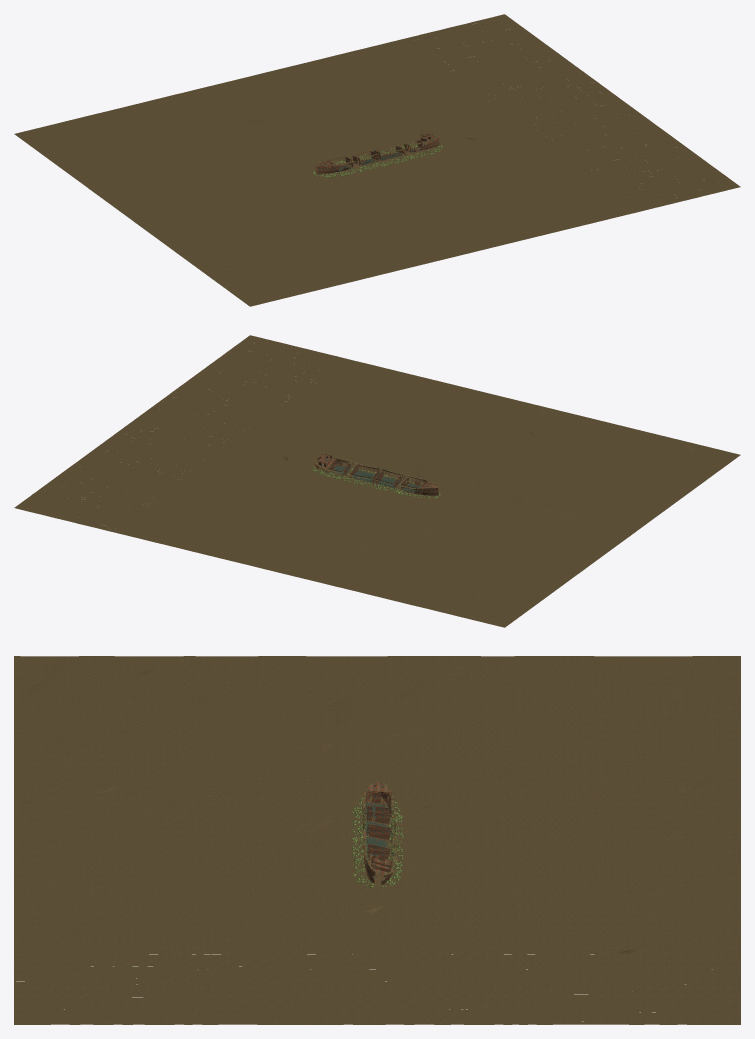
The model's file is korean_castle_lod1.glb.
3 renders of one model, top to bottom at view 1: azimuth 30°, elevation 25°; view 2: azimuth 150°, elevation 25°; view 3: azimuth 270°, elevation 25°, orthographic. The views are drawn at different scales.
Visible parts, largest first — view 1: Seabed_sand_ripples, Rubble_apron; view 2: Seabed_sand_ripples, Rubble_apron; view 3: Seabed_sand_ripples, Rubble_apron.
Part boxes in pixels (x1=…): Seabed_sand_ripples: x1=14, y1=14, x2=740, y2=306; Rubble_apron: x1=313, y1=143, x2=443, y2=177; Seabed_sand_ripples: x1=14, y1=335, x2=740, y2=627; Rubble_apron: x1=312, y1=464, x2=441, y2=498; Seabed_sand_ripples: x1=14, y1=656, x2=740, y2=1024; Rubble_apron: x1=351, y1=797, x2=403, y2=887.
Bounding box in the file's own units: 600 × 22.05 × 500.
5 materials, 4 textured.
